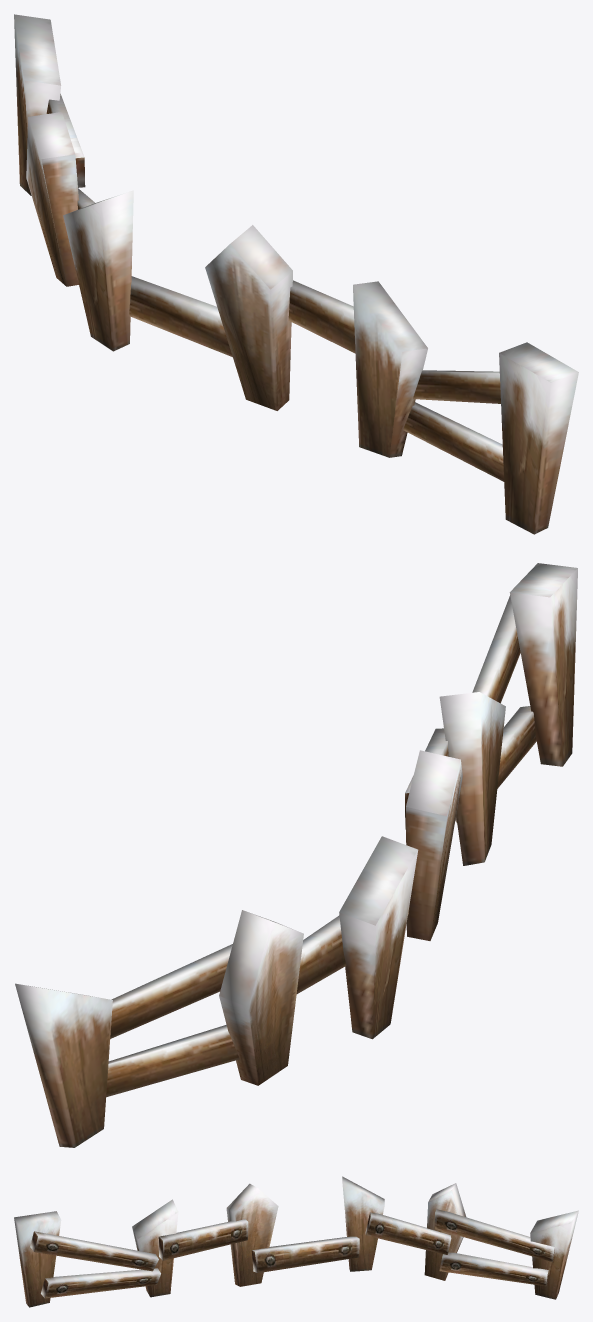
File: SM_Enclosure_07.fbx
3 renders of one model, top to bottom at view 1: azimuth 30°, elevation 25°; view 2: azimuth 150°, elevation 25°; view 3: azimuth 270°, elevation 25°, orthographic. The views are drawn at different scales.
Parts seen in each view (by area): view 1: SM_Enclosure_07; view 2: SM_Enclosure_07; view 3: SM_Enclosure_07.
Part boxes in pixels (<box>): SM_Enclosure_07: <box>14,14,578,534</box>; SM_Enclosure_07: <box>15,563,577,1147</box>; SM_Enclosure_07: <box>14,1176,578,1307</box>.
Bounding box in the file's own units: 1.25 × 1.09 × 5.79.
